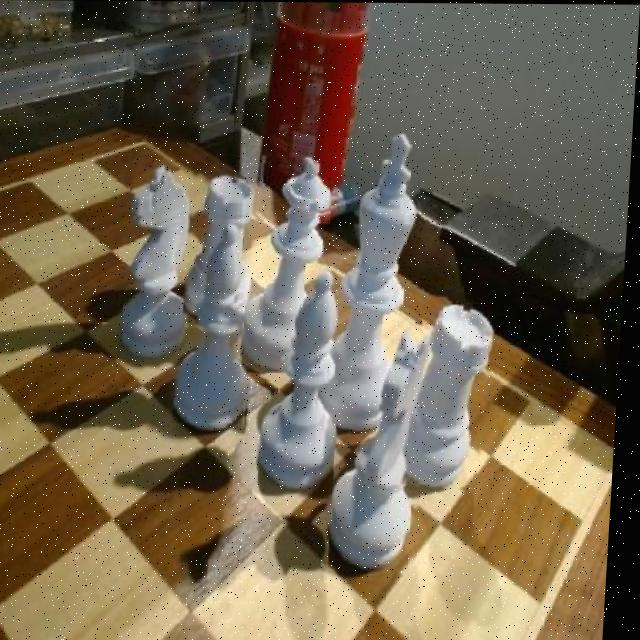black-rook: (265, 271, 353, 483), (180, 224, 265, 427)
white-bishop: (326, 135, 428, 431)
white-king: (330, 331, 439, 572), (125, 169, 198, 350)
white-pawn: (246, 157, 336, 361)
white-queen: (409, 297, 499, 490), (187, 175, 256, 318)
